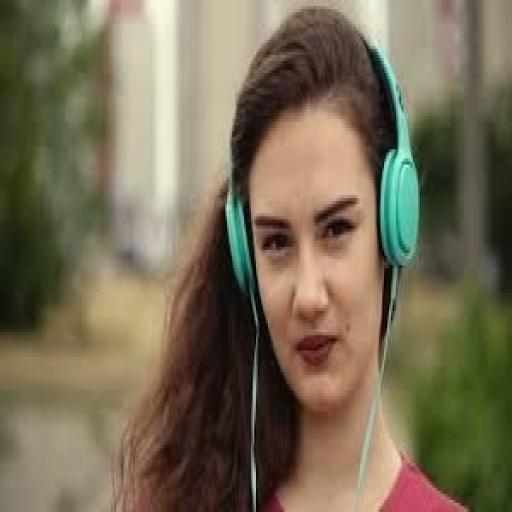listening_to_music: (109, 6, 473, 509)
